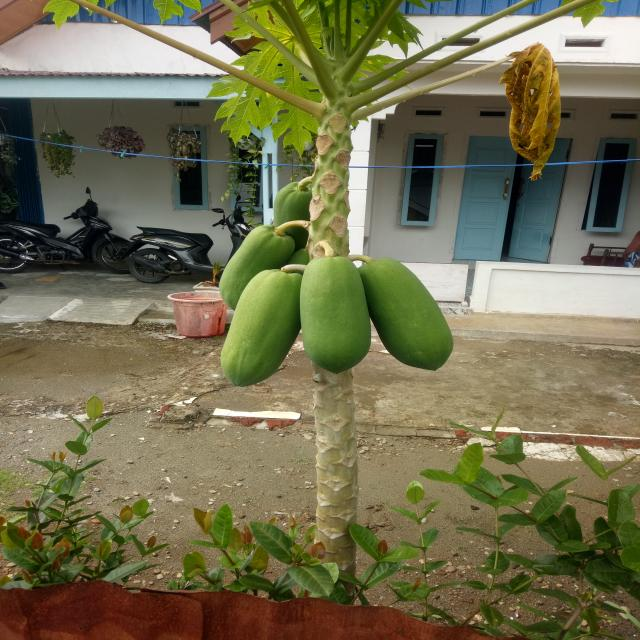Pepaya unrippen: (366, 258, 450, 378), (218, 273, 297, 390), (299, 259, 374, 375), (213, 226, 295, 304)
